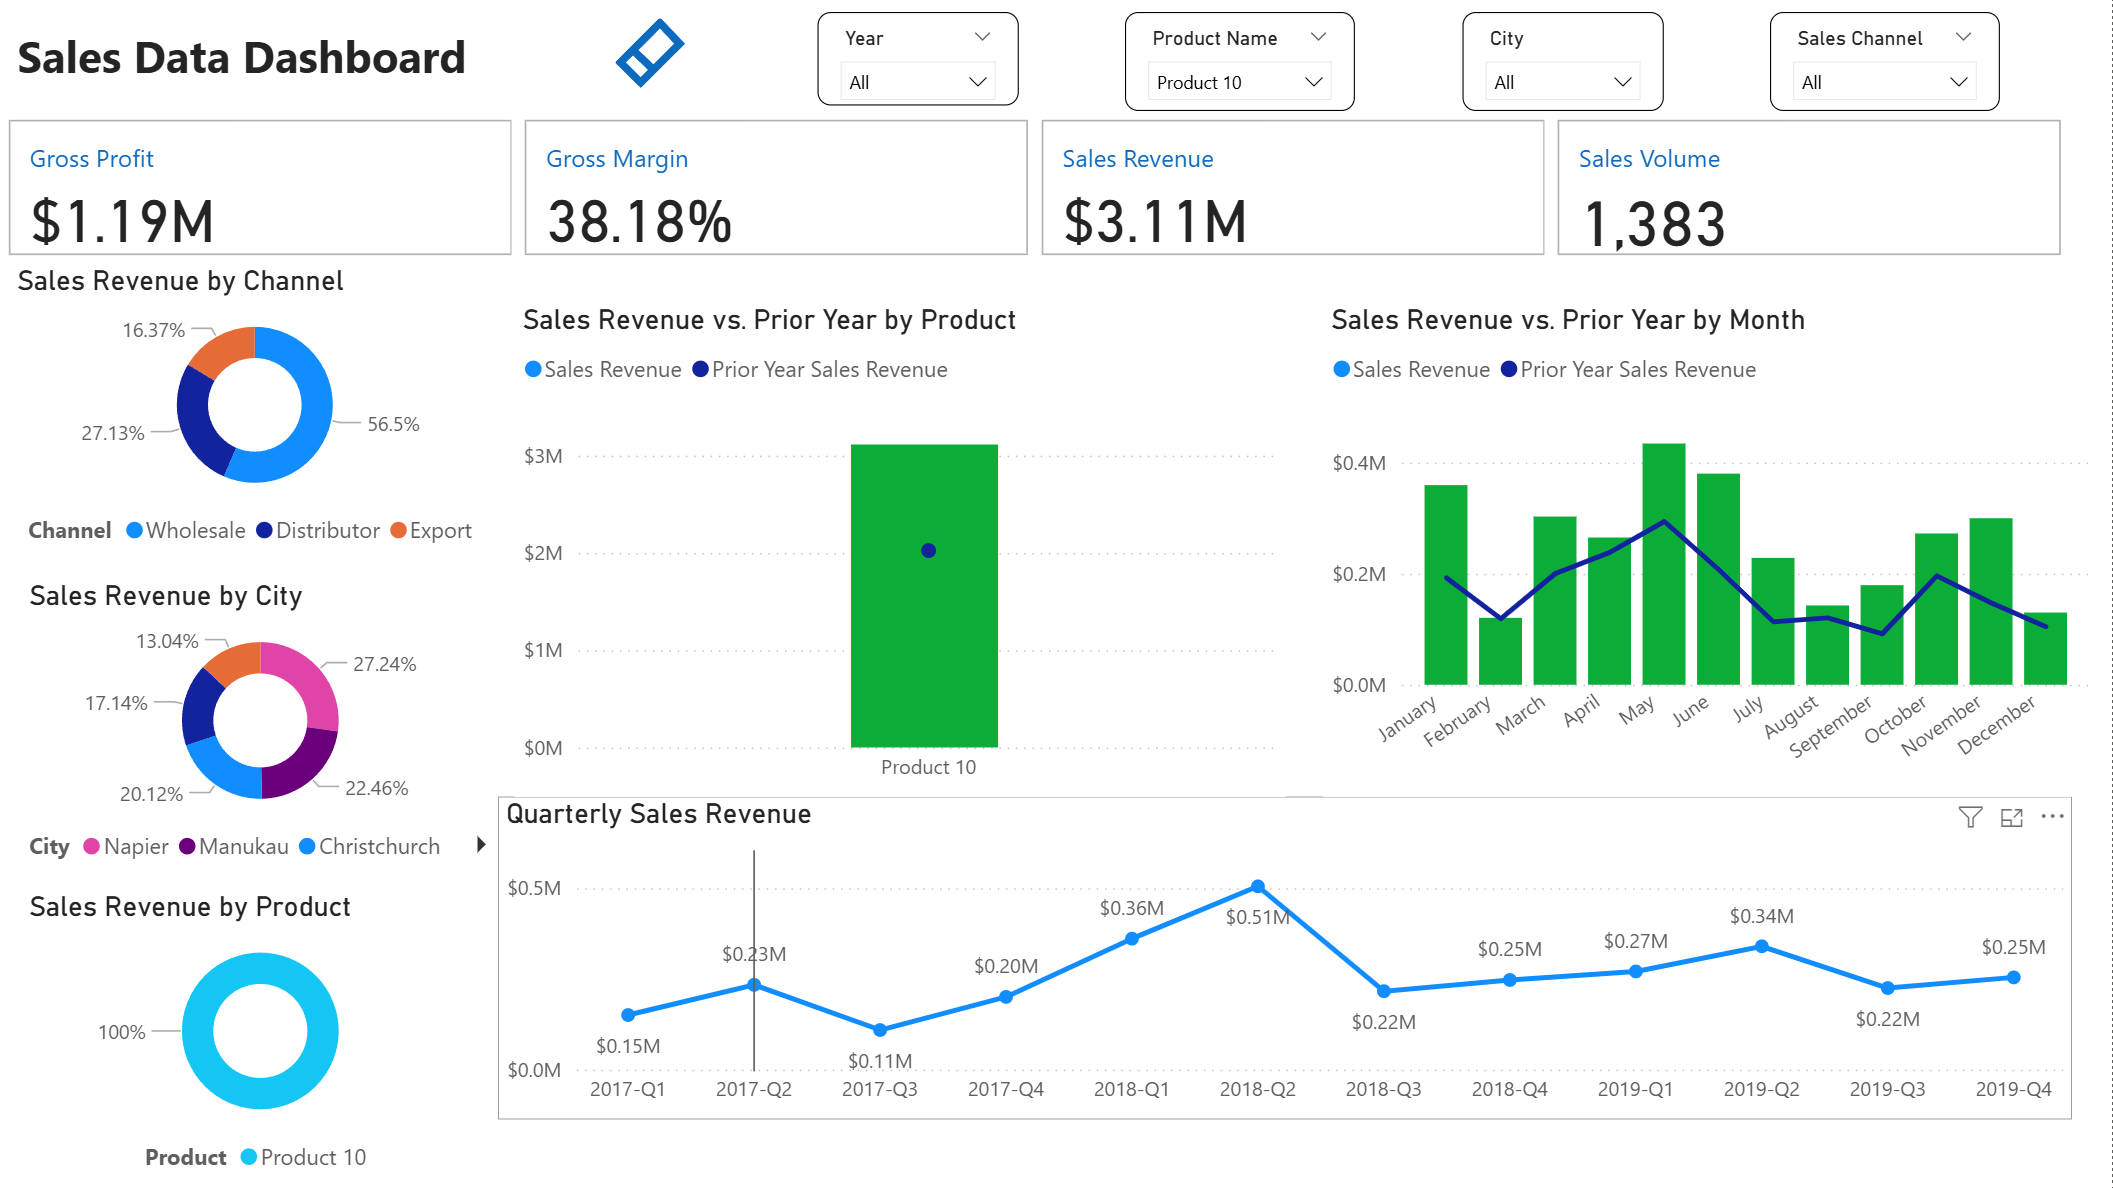

Layout of this report page (visuals, bound fields, positions):
{"tool":"powerbi","page":{"name":"Page 1","canvas":[1280,720],"ordinal":0},"visuals":[{"type":"slicer","fields":{"Values":["dDate.Year"]},"box":[495.5,7.3,121.8,56.4],"z":0},{"type":"slicer","fields":{"Values":["Products_Data.产品名称"]},"box":[682.1,7.3,139.1,60],"z":1000},{"type":"slicer","fields":{"Values":["Regions_Table.城市"]},"box":[886.1,7.3,121.8,60],"z":2000},{"type":"slicer","fields":{"Values":["Sales_Data.销售渠道"]},"box":[1072.7,7.3,139.1,60],"z":3000},{"type":"cardVisual","fields":{"Data":["DAX Table.Gross Profit","DAX Table.Gross Margin","DAX Table.Sales Revenue","DAX Table.Sales Volume"]},"box":[0,77.7,1271.5,93.1],"z":4000},{"type":"donutChart","title":"Sales Revenue by Channel","fields":{"Category":["Sales_Data.销售渠道"],"Y":["DAX Table.Sales Revenue"]},"box":[7.7,177.7,297.7,170.8],"z":5000},{"type":"donutChart","title":"Sales Revenue by Product ","fields":{"Y":["DAX Table.Sales Revenue"],"Category":["Products_Data.产品名称"]},"box":[7.7,539.2,297.7,173.1],"z":6000},{"type":"donutChart","fields":{"Y":["DAX Table.Sales Revenue"],"Category":["Regions_Table.城市"]},"box":[7.7,356.9,297.7,173.8],"z":7000},{"type":"lineChart","title":"Quarterly Sales Revenue","fields":{"Category":["dDate.Year-Quarter"],"Y":["DAX Table.Sales Revenue"]},"box":[311.5,497.7,960,209.2],"z":8000},{"type":"lineClusteredColumnComboChart","title":"Sales Revenue vs. Prior Year by Product","fields":{"Category":["Products_Data.产品名称"],"Y":["DAX Table.Sales Revenue"],"Y2":["DAX Table.Prior Year Sales Revenue"]},"box":[311.5,183.8,470,307.7],"z":9000},{"type":"lineClusteredColumnComboChart","title":"Sales Revenue vs. Prior Year by Month","fields":{"Y":["DAX Table.Sales Revenue"],"Y2":["DAX Table.Prior Year Sales Revenue"],"Category":["dDate.Month"]},"box":[788.5,183.8,483.1,307.7],"z":10000},{"type":"actionButton","box":[427.7,12.3,48.5,46.2],"z":11000},{"type":"textbox","box":[65.4,15.4,296.9,62.3],"z":12000}]}

Visuals, with their boxes in screenshot pixels (x1, y1, x2, y2), scaled from the page's 1280x720 canvas onto the 2113x1188 screenshot:
slicer - dDate.Year: l=818, t=12, r=1019, b=105
slicer - Products_Data.产品名称: l=1126, t=12, r=1356, b=111
slicer - Regions_Table.城市: l=1463, t=12, r=1664, b=111
slicer - Sales_Data.销售渠道: l=1771, t=12, r=2000, b=111
cardVisual - DAX Table.Gross Profit x DAX Table.Gross Margin: l=0, t=128, r=2099, b=282
"Sales Revenue by Channel" donutChart: l=13, t=293, r=504, b=575
"Sales Revenue by Product " donutChart: l=13, t=890, r=504, b=1175
donutChart - DAX Table.Sales Revenue x Regions_Table.城市: l=13, t=589, r=504, b=876
"Quarterly Sales Revenue" lineChart: l=514, t=821, r=2099, b=1166
"Sales Revenue vs. Prior Year by Product" lineClusteredColumnComboChart: l=514, t=303, r=1290, b=811
"Sales Revenue vs. Prior Year by Month" lineClusteredColumnComboChart: l=1302, t=303, r=2099, b=811
actionButton: l=706, t=20, r=786, b=97
textbox: l=108, t=25, r=598, b=128
